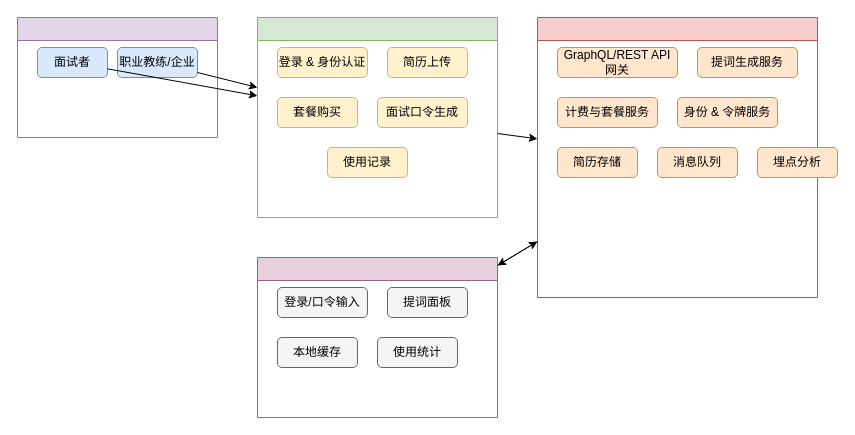
This 855x435 diagram has some shape labels left out. Each missing label, with the box of its shape:
Web SaaS 门户: (256, 16, 498, 218)
云端服务: (536, 16, 818, 298)
桌面端应用: (256, 256, 498, 418)
用户侧: (16, 16, 218, 138)
